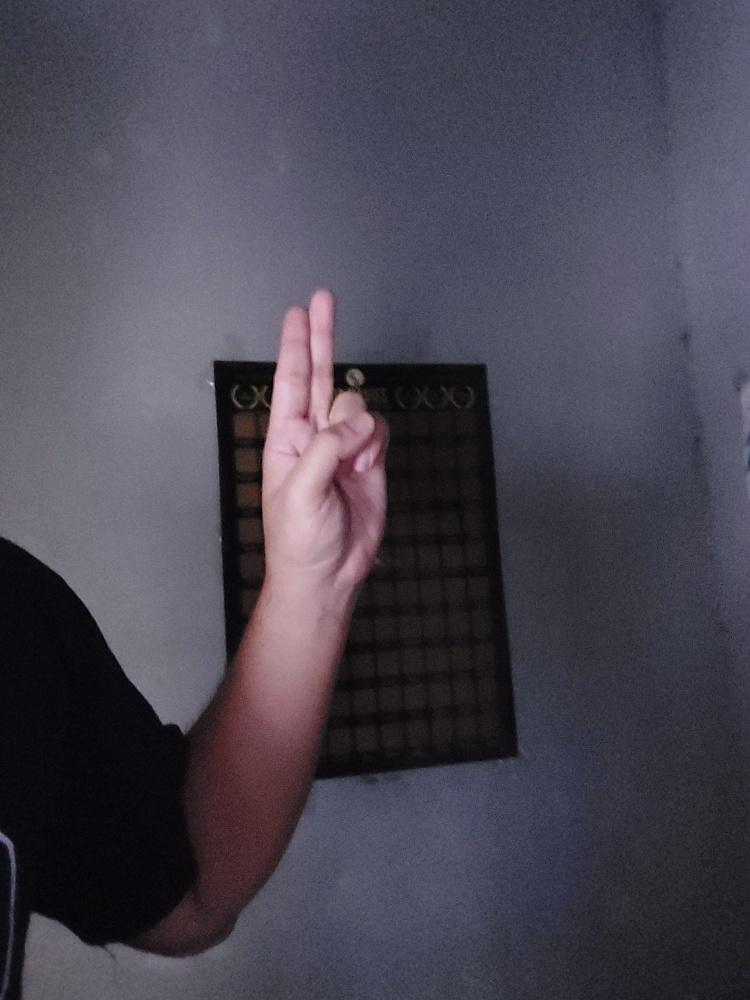u: (255, 287, 389, 598)
